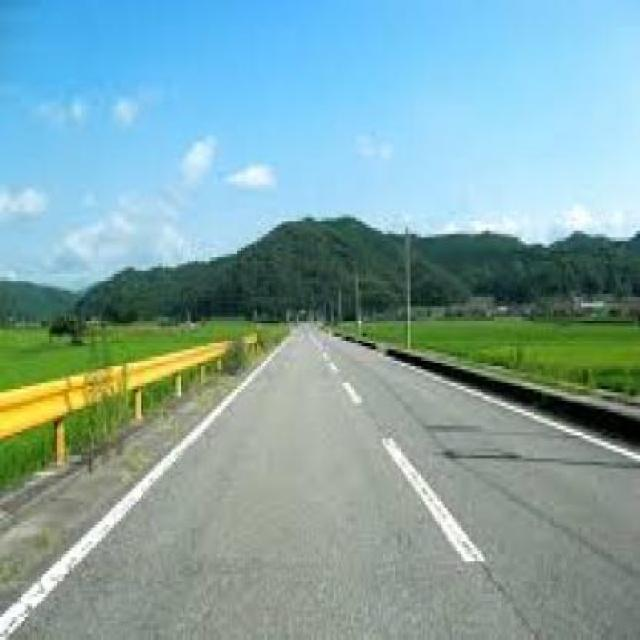Guard rail: (0, 323, 252, 499)
